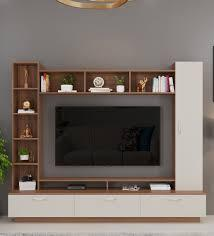TV: (53, 105, 161, 166)
console: (5, 190, 208, 224)
